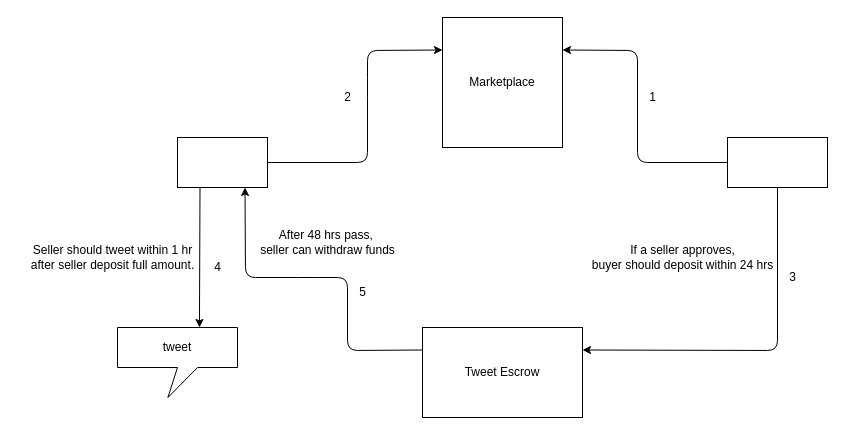
The diagram is 845 pixels wide and 435 high, and some of its shapes have lost their labels. Here are the shapes that lost their labels. From the top down, the centre of each, then its label:
point (222, 162): Taker
point (777, 162): Maker
